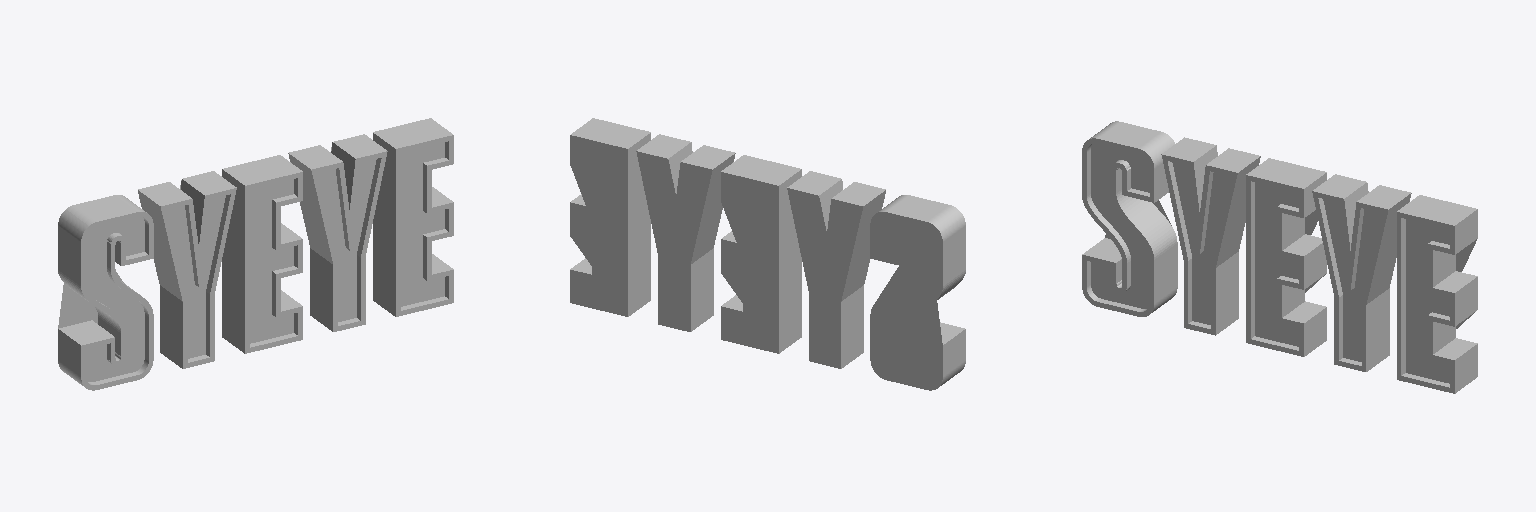
File: word.3.obj
The picture shows the model from 3 angles: view 1: azimuth 30°, elevation 25°; view 2: azimuth 150°, elevation 25°; view 3: azimuth 330°, elevation 25°; orthographic projection.
Parts seen in each view (by area): view 1: Text.001_Text.004; view 2: Text.001_Text.004; view 3: Text.001_Text.004.
Boxes of the visible parts, x1=… form: Text.001_Text.004: x1=58, y1=118, x2=453, y2=390; Text.001_Text.004: x1=570, y1=118, x2=965, y2=390; Text.001_Text.004: x1=1082, y1=121, x2=1477, y2=393.
Bounding box in the file's own units: 1.7 × 0.7342 × 0.1831.